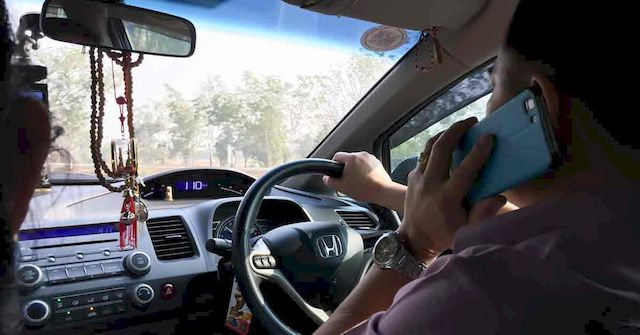phone: (421, 111, 561, 197)
